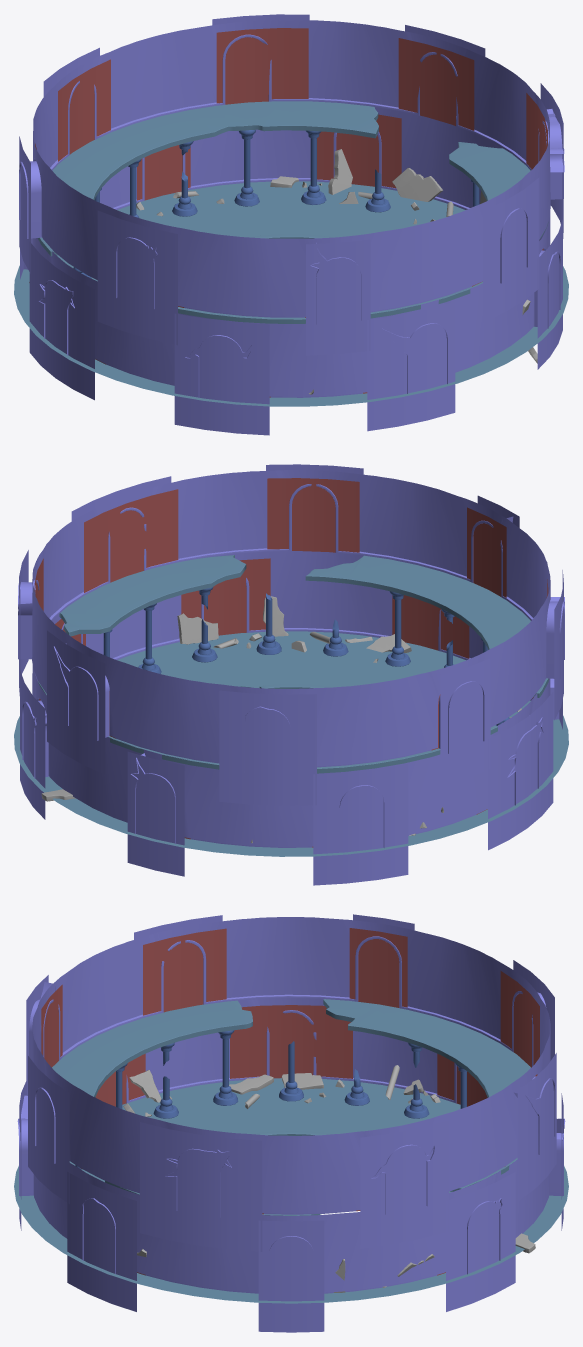
Rendered from Arena_Full2.fbx.
The picture shows the model from 3 angles, top to bottom: view 1: azimuth 30°, elevation 25°; view 2: azimuth 150°, elevation 25°; view 3: azimuth 270°, elevation 25°; orthographic projection.
Visible parts, largest first — view 1: Wall_Top, Wall_Bot, Moss_Top, Arena_Bot, Arena_Top, Moss_Bot, Pillars_Top, Debris; view 2: Wall_Top, Wall_Bot, Arena_Bot, Moss_Top, Arena_Top, Moss_Bot, Pillars_Top, Debris; view 3: Wall_Top, Wall_Bot, Arena_Bot, Arena_Top, Moss_Top, Moss_Bot, Pillars_Top, Debris.
Boxes of the visible parts, x1,y1,x2,y2 form: Wall_Top: (19, 14, 564, 355); Wall_Bot: (20, 107, 562, 435); Moss_Top: (35, 28, 547, 317); Arena_Bot: (14, 181, 568, 406); Arena_Top: (37, 101, 548, 323); Moss_Bot: (95, 114, 543, 397); Pillars_Top: (73, 130, 479, 278); Debris: (29, 149, 537, 394); Wall_Top: (18, 464, 564, 805); Wall_Bot: (20, 551, 562, 885); Arena_Bot: (14, 631, 568, 856); Moss_Top: (34, 478, 548, 750); Arena_Top: (38, 555, 549, 773); Moss_Bot: (39, 558, 533, 847); Pillars_Top: (103, 587, 509, 725); Debris: (41, 596, 521, 843); Wall_Top: (26, 914, 556, 1251); Wall_Bot: (17, 998, 565, 1332); Arena_Bot: (14, 1078, 568, 1303); Arena_Top: (52, 999, 530, 1215); Moss_Top: (41, 928, 539, 1214); Moss_Bot: (95, 1005, 487, 1275); Pillars_Top: (75, 1030, 466, 1169); Debris: (123, 1065, 535, 1292).
Size of the model in its own units: 192 by 83.37 by 192.
